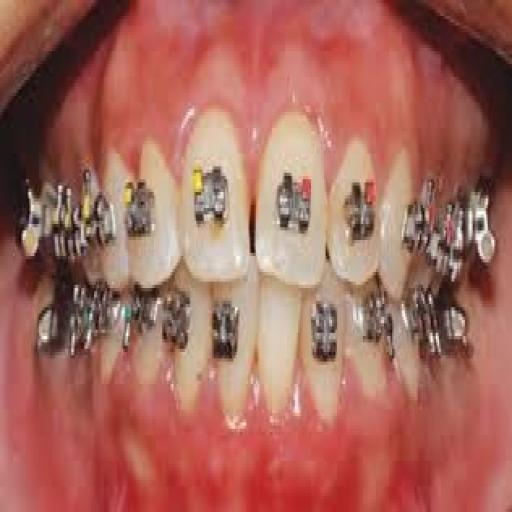correct_brace: (189, 153, 232, 239), (271, 164, 317, 240)
